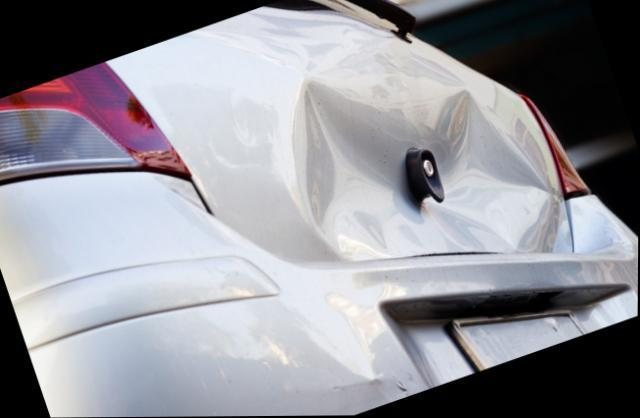dent: (294, 81, 548, 259)
